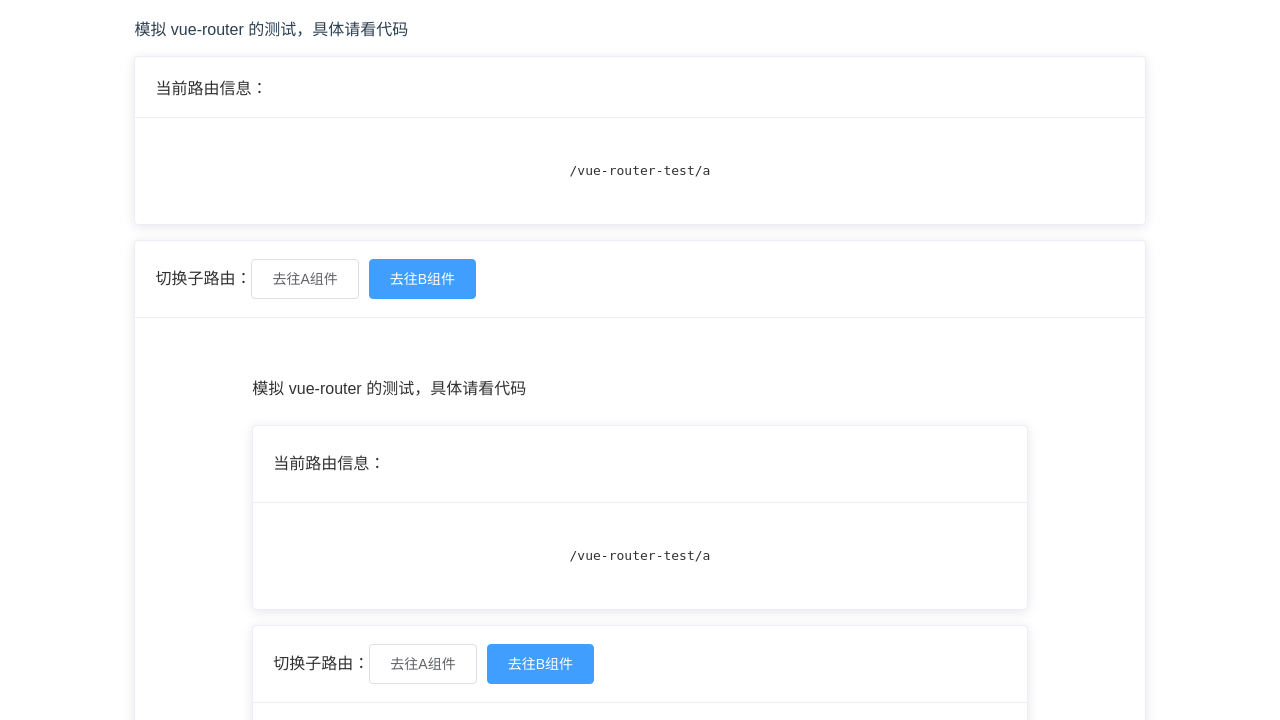
VueRouter 测试 › 点击按钮B, 发起跳转到B组件
The width and height of the screenshot is (1280, 720).
Click the 1st button with class "btn-b": point(422, 279) [369,259,476,299]
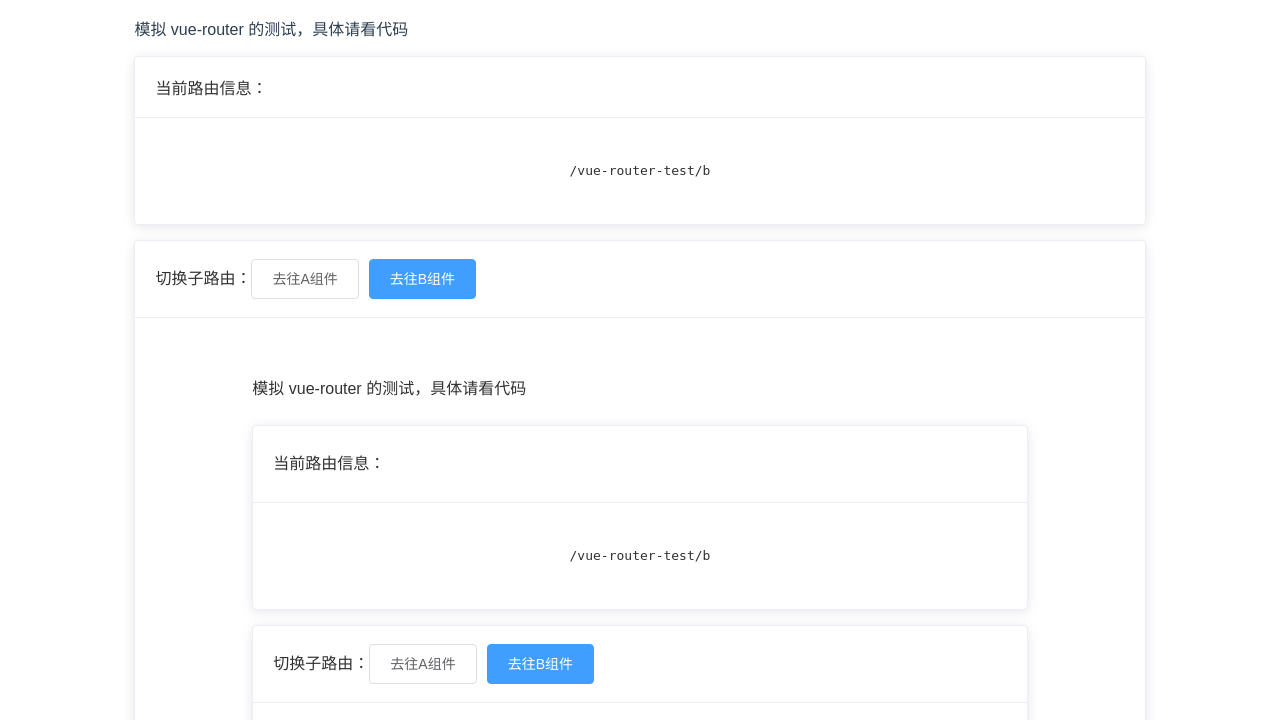
Expected: the 1st text with class "route" reads "/vue-router-test/b", [570,163,710,178]
